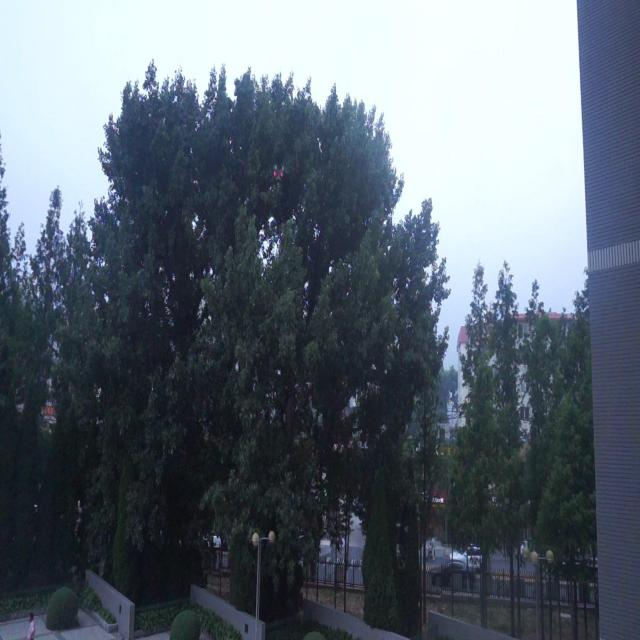UAV: (274, 165, 284, 180)
